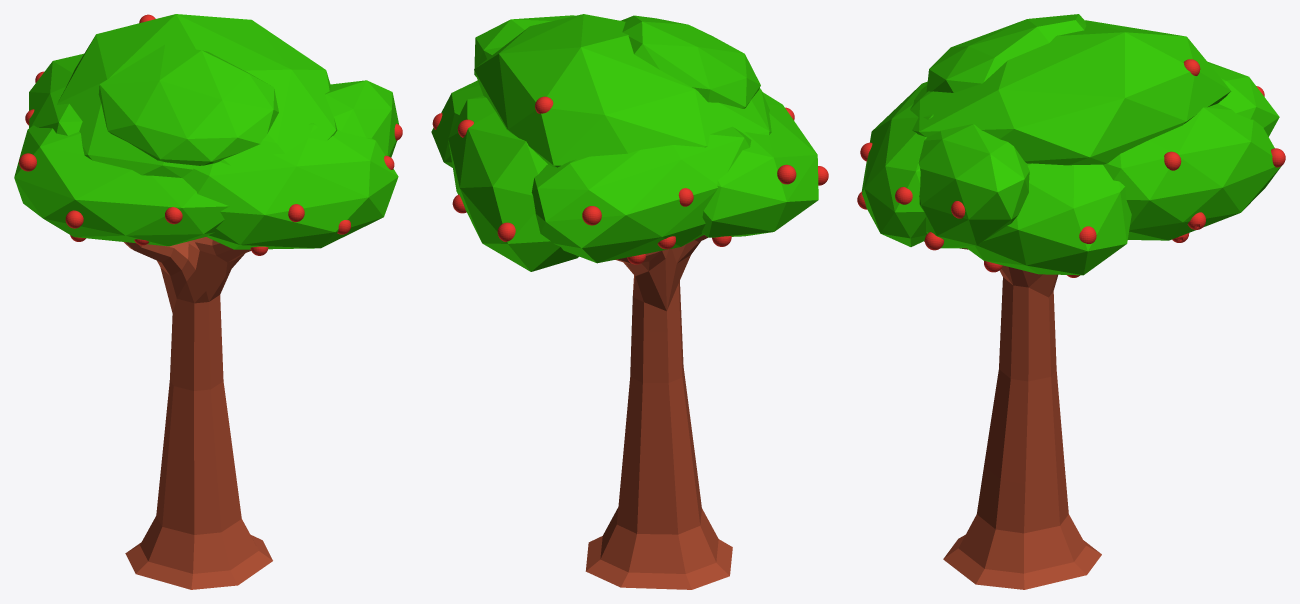
The picture shows the model from 3 angles, left to right: view 1: azimuth 30°, elevation 25°; view 2: azimuth 150°, elevation 25°; view 3: azimuth 270°, elevation 25°; orthographic projection. The views are drawn at different scales.
Parts seen in each view (by area): view 1: Tree; view 2: Tree; view 3: Tree.
Part boxes in pixels (x1,y1,x2,y2): Tree: (14, 14, 402, 589); Tree: (431, 14, 828, 589); Tree: (857, 14, 1285, 589).
Size of the model in its own units: 3.39 by 4.97 by 3.52.
